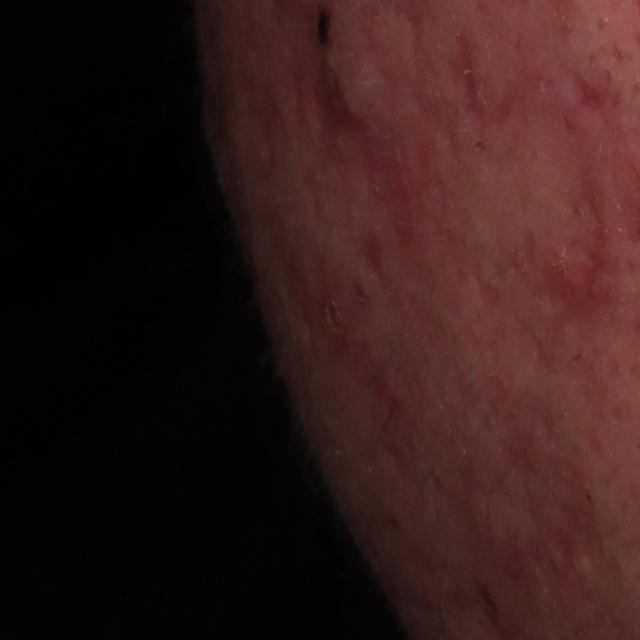atrophic_scar: (448, 30, 615, 333), (269, 203, 377, 426), (535, 464, 599, 598), (242, 49, 290, 170)
